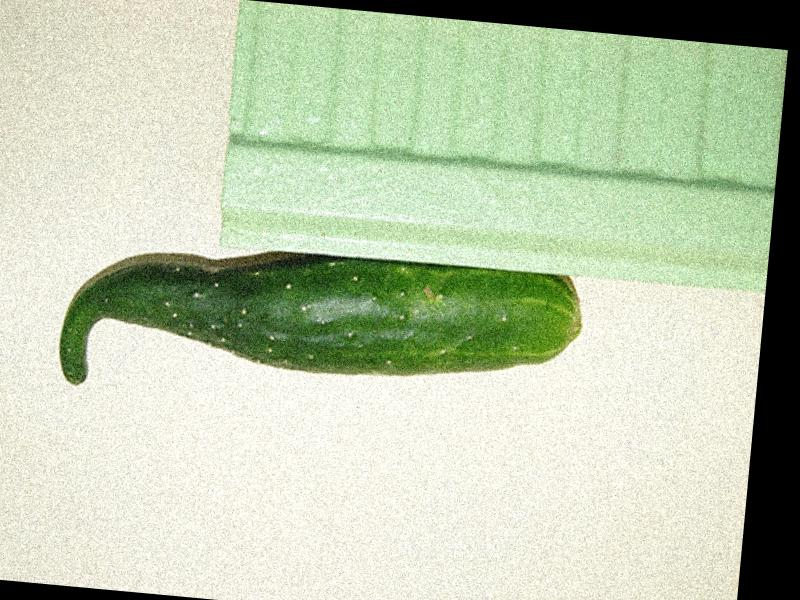Cucumber: (54, 229, 584, 429)
